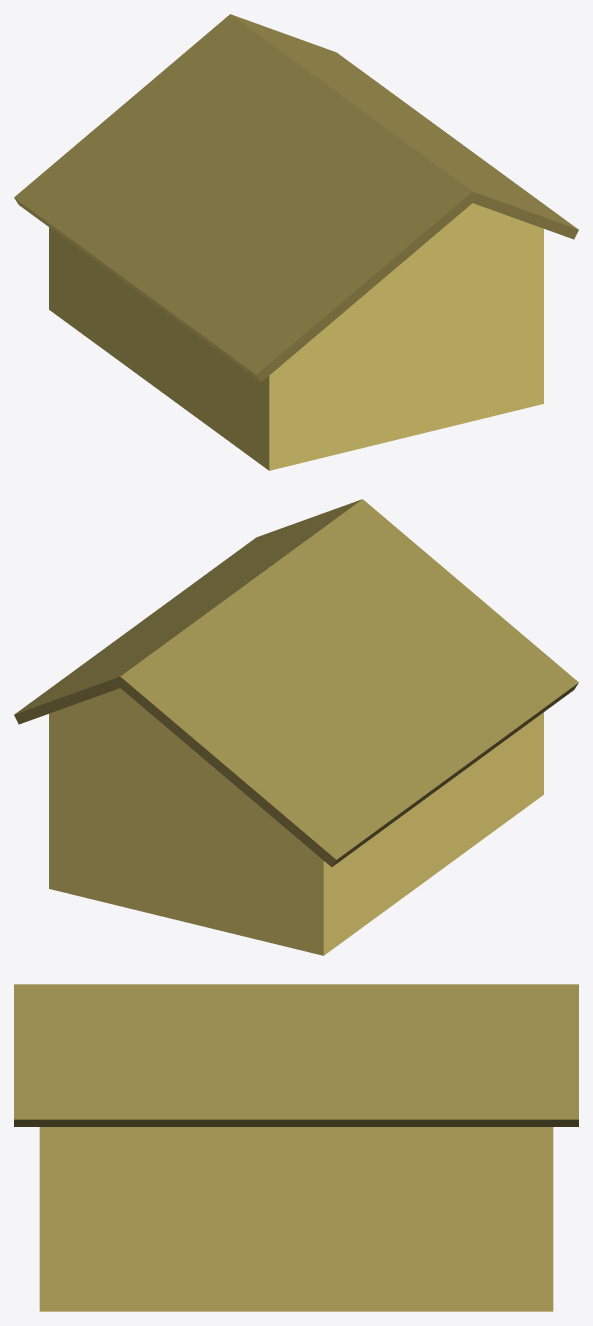
File: result.glb
The picture shows the model from 3 angles, top to bottom: view 1: azimuth 30°, elevation 25°; view 2: azimuth 150°, elevation 25°; view 3: azimuth 270°, elevation 25°; orthographic projection. The views are drawn at different scales.
Parts seen in each view (by area): view 1: 95155762-d9ed-4dc2-90af-81e818df440f__undefined (×2), 29a35d35-dda8-40ea-9788-7a25cf2ffe7d__undefined; view 2: 95155762-d9ed-4dc2-90af-81e818df440f__undefined (×2), 29a35d35-dda8-40ea-9788-7a25cf2ffe7d__undefined; view 3: 29a35d35-dda8-40ea-9788-7a25cf2ffe7d__undefined, 95155762-d9ed-4dc2-90af-81e818df440f__undefined.
Part boxes in pixels (x1=…): 95155762-d9ed-4dc2-90af-81e818df440f__undefined (×2): x1=14, y1=14, x2=578, y2=382; 29a35d35-dda8-40ea-9788-7a25cf2ffe7d__undefined: x1=49, y1=203, x2=543, y2=470; 95155762-d9ed-4dc2-90af-81e818df440f__undefined (×2): x1=14, y1=499, x2=578, y2=867; 29a35d35-dda8-40ea-9788-7a25cf2ffe7d__undefined: x1=49, y1=688, x2=543, y2=955; 29a35d35-dda8-40ea-9788-7a25cf2ffe7d__undefined: x1=39, y1=1127, x2=553, y2=1311; 95155762-d9ed-4dc2-90af-81e818df440f__undefined: x1=14, y1=984, x2=578, y2=1126.
Size of the model in its own units: 845 by 602 by 1100.
